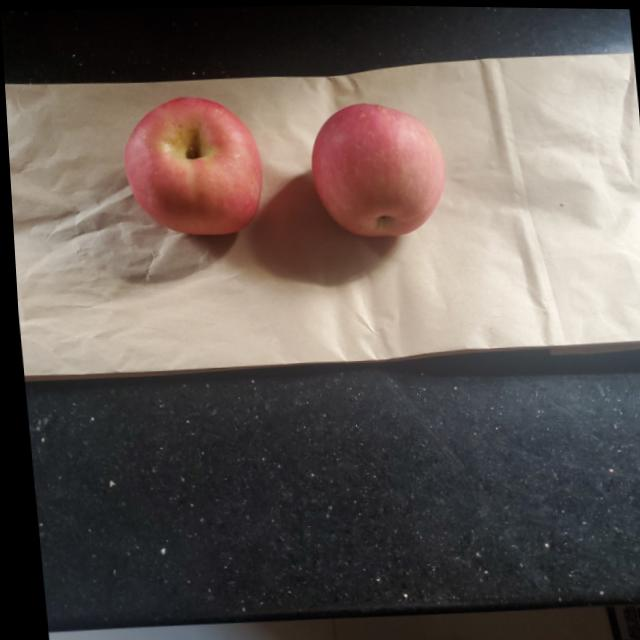apple: (114, 87, 264, 235), (302, 97, 446, 238)
